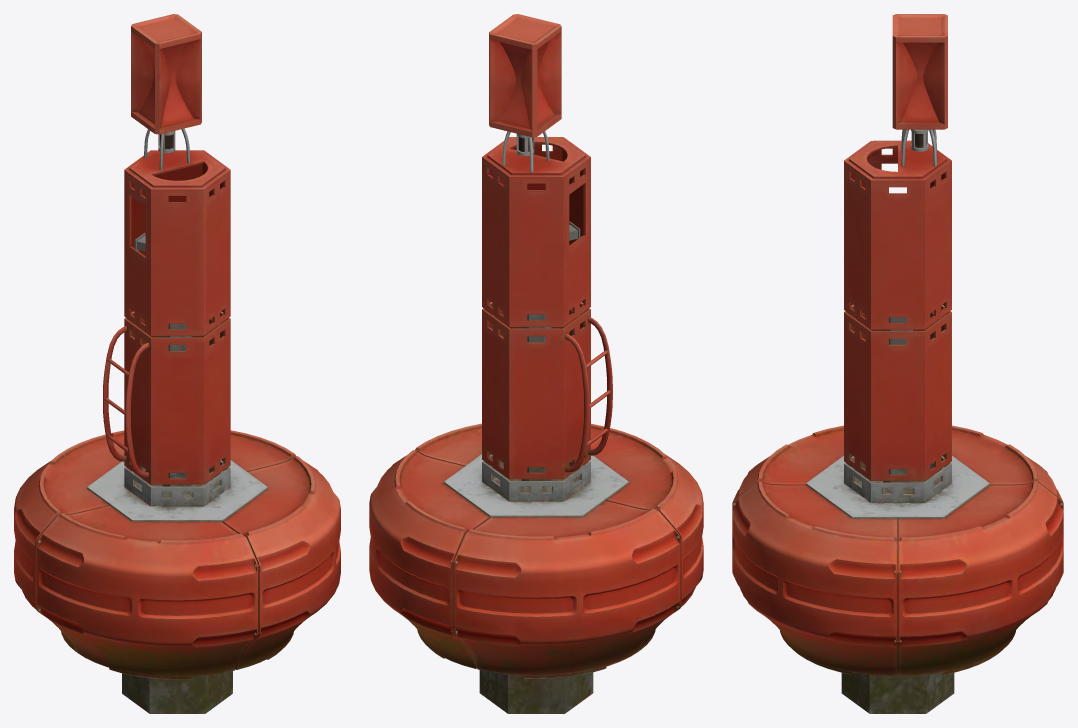
Rendered from lateral_sea_marker.glb.
3 views of the same model, side by side, from view 1: azimuth 30°, elevation 25°; view 2: azimuth 150°, elevation 25°; view 3: azimuth 270°, elevation 25° (orthographic). The views are drawn at different scales.
Visible parts, largest first — view 1: lateral_sea_marker; view 2: lateral_sea_marker; view 3: lateral_sea_marker.
Boxes of the visible parts, x1,y1,x2,y2 form: lateral_sea_marker: [14, 14, 340, 713]; lateral_sea_marker: [369, 14, 703, 713]; lateral_sea_marker: [732, 14, 1063, 713].
Size of the model in its own units: 3 by 6.84 by 3.
Materials: 1 (1 with a texture image).
